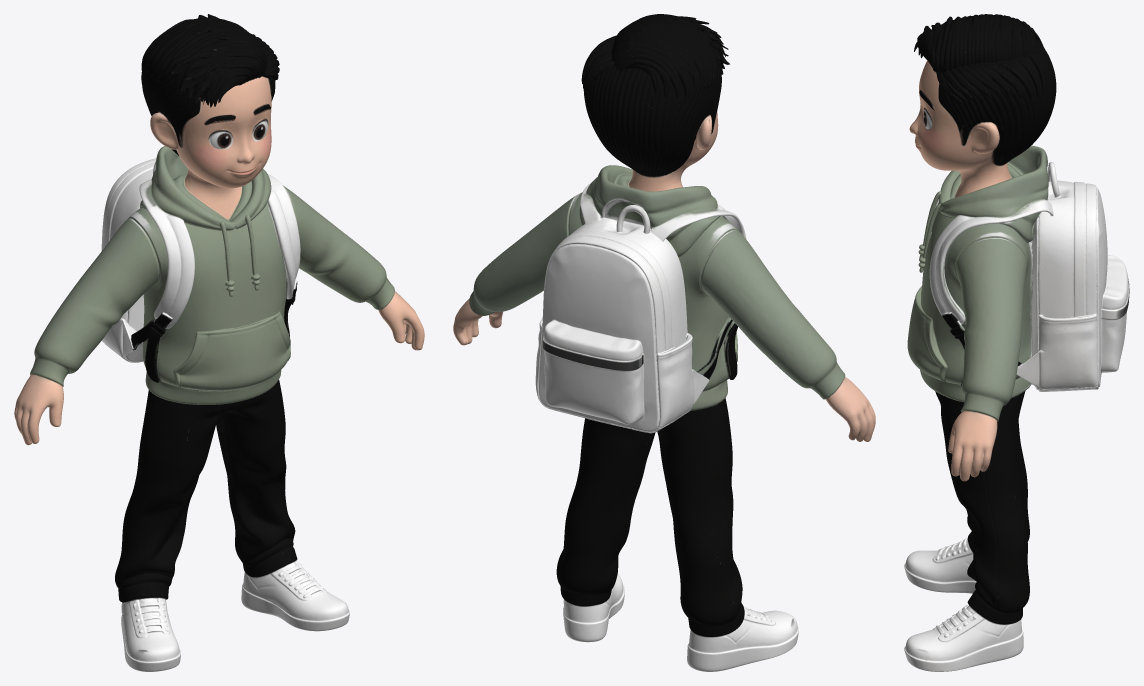
The model's file is worn-reference.glb.
3 views of the same model, side by side, from view 1: azimuth 30°, elevation 25°; view 2: azimuth 150°, elevation 25°; view 3: azimuth 270°, elevation 25° (orthographic). The views are drawn at different scales.
Size of the model in its own units: 1.32 by 1.9 by 0.6439.
Materials: 1 (1 with a texture image).
